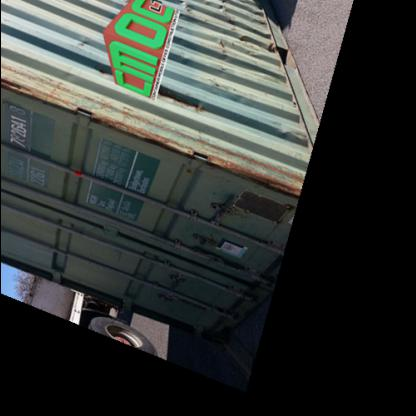Damage: (209, 35, 276, 67), (142, 88, 206, 108), (269, 121, 304, 142), (174, 1, 202, 22), (68, 32, 90, 58), (214, 1, 230, 16)
